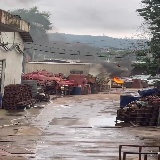fire: (113, 77, 125, 83)
